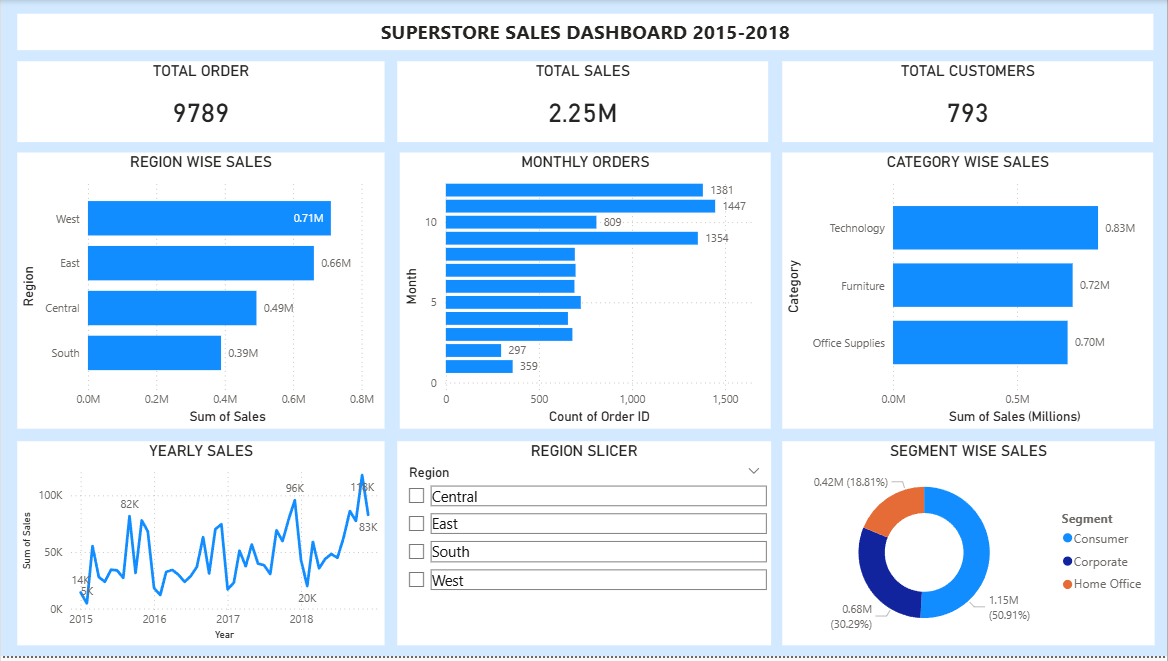

The page's visual inventory and layout, read from the dashboard file:
{"tool":"powerbi","page":{"name":"Page 1","canvas":[1280,720],"ordinal":0},"visuals":[{"type":"clusteredBarChart","title":"REGION WISE SALES","fields":{"Category":["clean_train.Region"],"Y":["Sum(clean_train.Sales)"]},"box":[17.8,167.4,403.4,303.3],"z":0},{"type":"clusteredBarChart","title":"CATEGORY WISE SALES","fields":{"Category":["clean_train.Category"],"Y":["Sum(clean_train.Sales)"]},"box":[857.6,167.4,407.5,303.3],"z":1000},{"type":"clusteredBarChart","title":"MONTHLY ORDERS","fields":{"Category":["clean_train.Month"],"Y":["CountNonNull(clean_train.Order ID)"]},"box":[437.7,167.4,407.5,303.3],"z":2000},{"type":"card","title":"TOTAL SALES","fields":{"Values":["Sum(clean_train.Sales)"]},"box":[435,67.2,407.5,89.2],"z":3000},{"type":"card","title":"TOTAL ORDER","fields":{"Values":["CountNonNull(clean_train.Order ID)"]},"box":[17.8,67.2,403.4,89.2],"z":4000},{"type":"card","title":"TOTAL CUSTOMERS","fields":{"Values":["Count(clean_train.Customer Name)"]},"box":[857.6,67.2,407.5,89.2],"z":5000},{"type":"lineChart","title":"YEARLY SALES ","fields":{"Y":["Sum(clean_train.Sales)"],"Category":["clean_train.Order Date.Variation.Date Hierarchy.Year","clean_train.Order Date.Variation.Date Hierarchy.Quarter","clean_train.Order Date.Variation.Date Hierarchy.Month"]},"box":[17.8,484.4,403.4,223.7],"z":6000},{"type":"slicer","title":"REGION SLICER","fields":{"Values":["clean_train.Region"]},"box":[435,484.4,410.3,223.7],"z":7000},{"type":"textbox","box":[17.8,15.1,1247.3,39.8],"z":8000},{"type":"donutChart","title":"SEGMENT WISE SALES","fields":{"Category":["clean_train.Segment"],"Y":["Sum(clean_train.Sales)"]},"box":[857.6,484.4,408.9,223.7],"z":9000}]}

Visuals, with their boxes in screenshot pixels (x1, y1, x2, y2), scaled from the page's 1280x720 canvas onto the 1168x661 screenshot:
"REGION WISE SALES" clusteredBarChart: [left=16, top=154, right=384, bottom=432]
"CATEGORY WISE SALES" clusteredBarChart: [left=783, top=154, right=1154, bottom=432]
"MONTHLY ORDERS" clusteredBarChart: [left=399, top=154, right=771, bottom=432]
"TOTAL SALES" card: [left=397, top=62, right=769, bottom=144]
"TOTAL ORDER" card: [left=16, top=62, right=384, bottom=144]
"TOTAL CUSTOMERS" card: [left=783, top=62, right=1154, bottom=144]
"YEARLY SALES " lineChart: [left=16, top=445, right=384, bottom=650]
"REGION SLICER" slicer: [left=397, top=445, right=771, bottom=650]
textbox: [left=16, top=14, right=1154, bottom=50]
"SEGMENT WISE SALES" donutChart: [left=783, top=445, right=1156, bottom=650]
